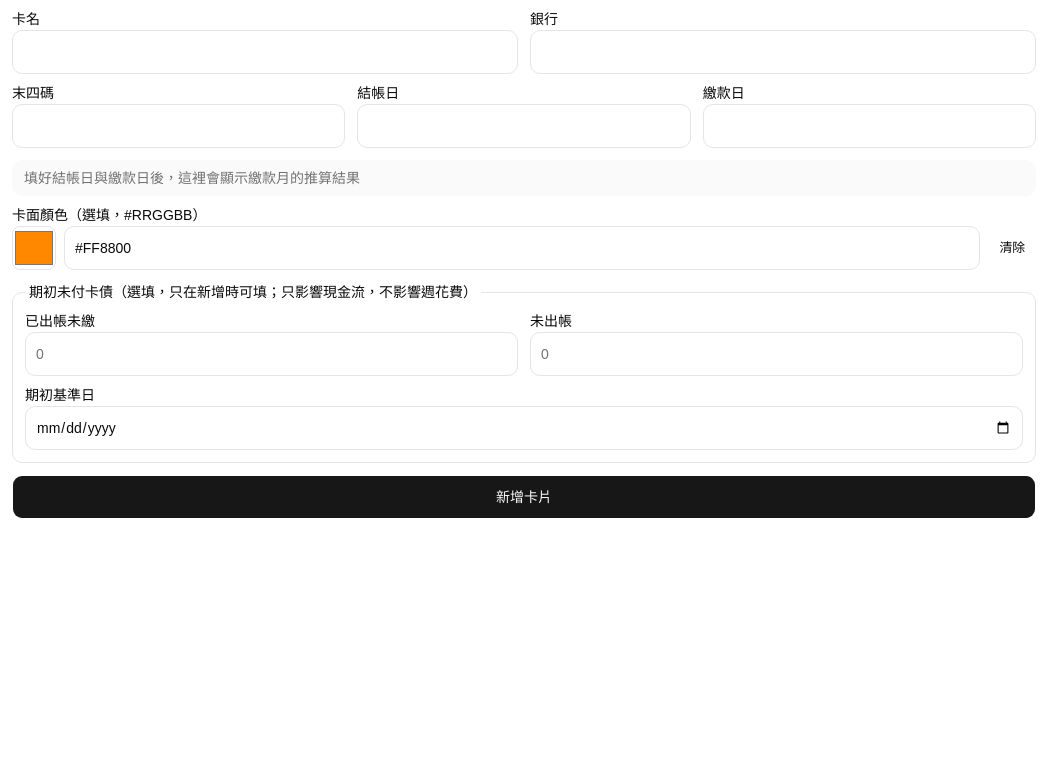
Test: CardForm 檢核與錯誤 › 前端檢核用 SRS 文案：末四碼、結帳日、繳款日
Step 1. Type "12" into the field labelled "末四碼" → (179, 126), box [12, 104, 345, 148]
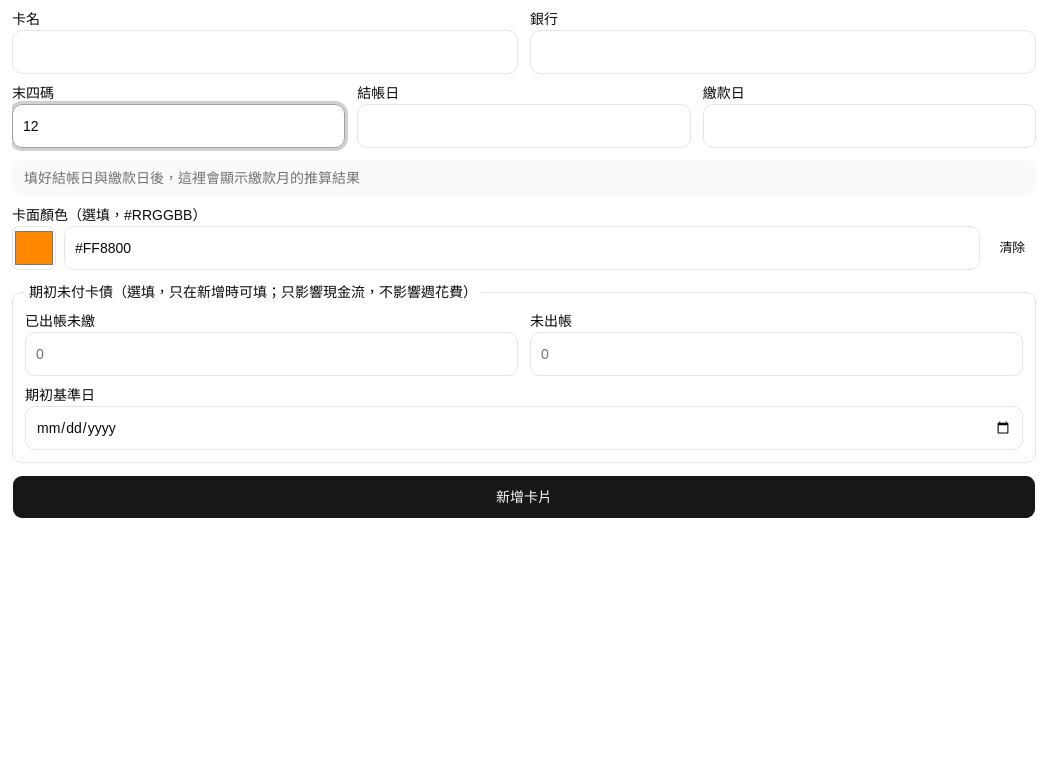
Step 2. Type "0" into the field labelled "結帳日" → (524, 126), box [357, 104, 691, 148]
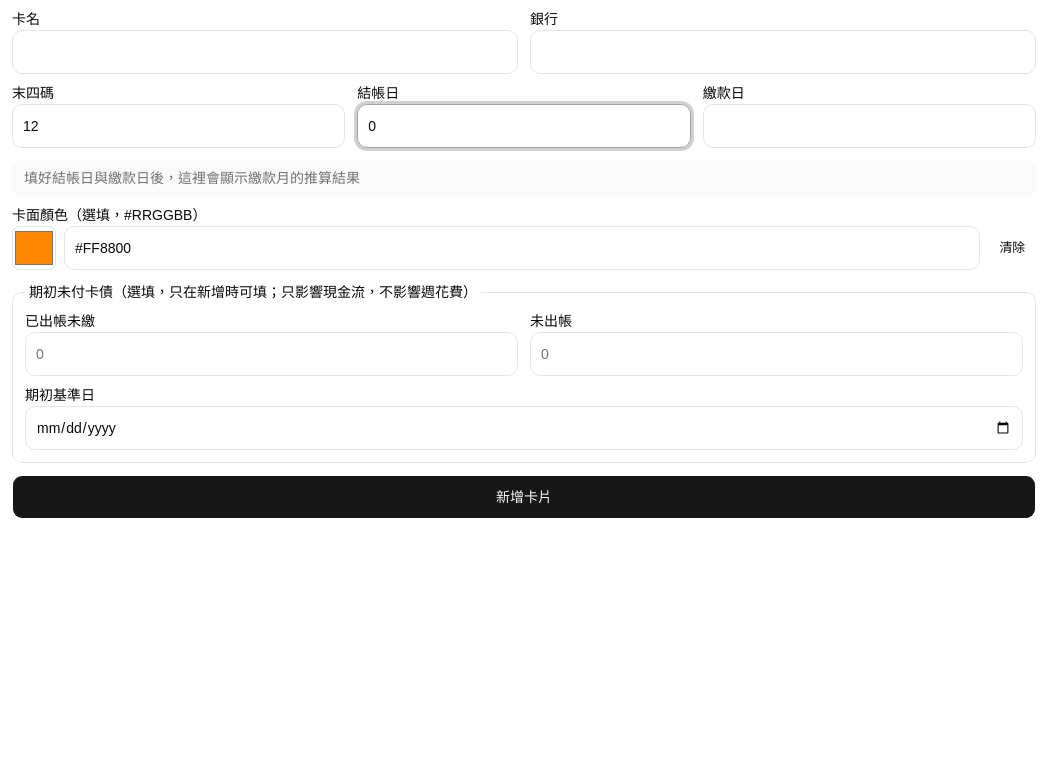
Step 3. Type "32" into the field labelled "繳款日" → (869, 126), box [703, 104, 1036, 148]
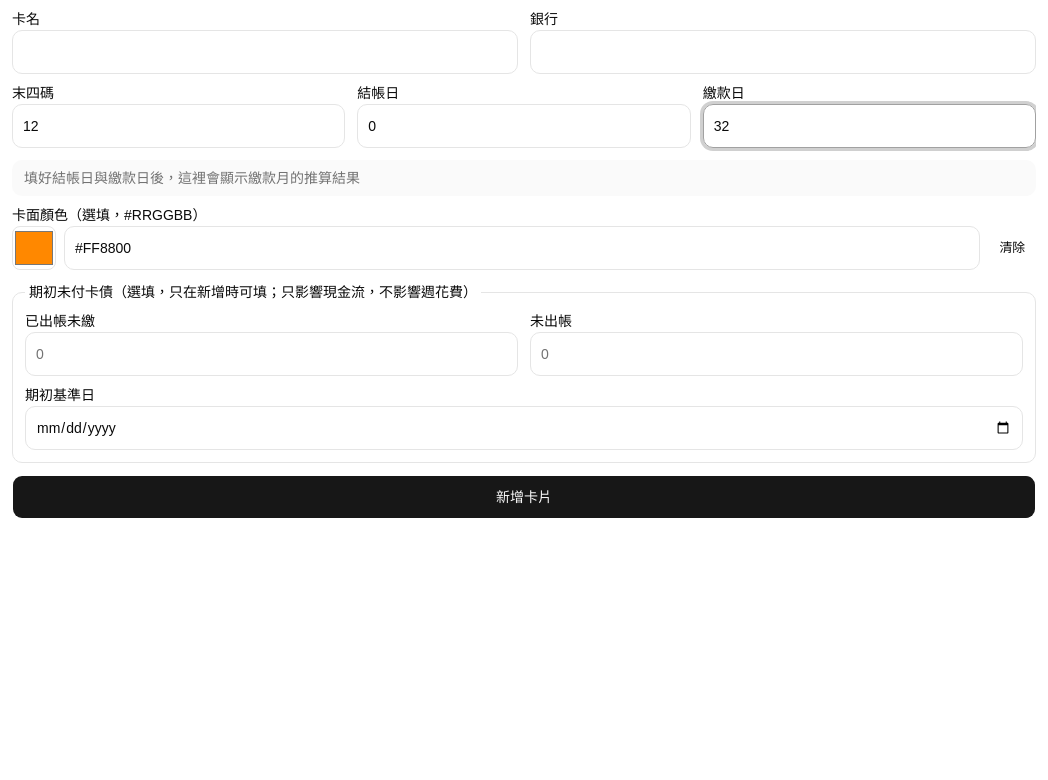
Step 4. Click the button with test id "submit" → (524, 497), box [12, 475, 1036, 519]
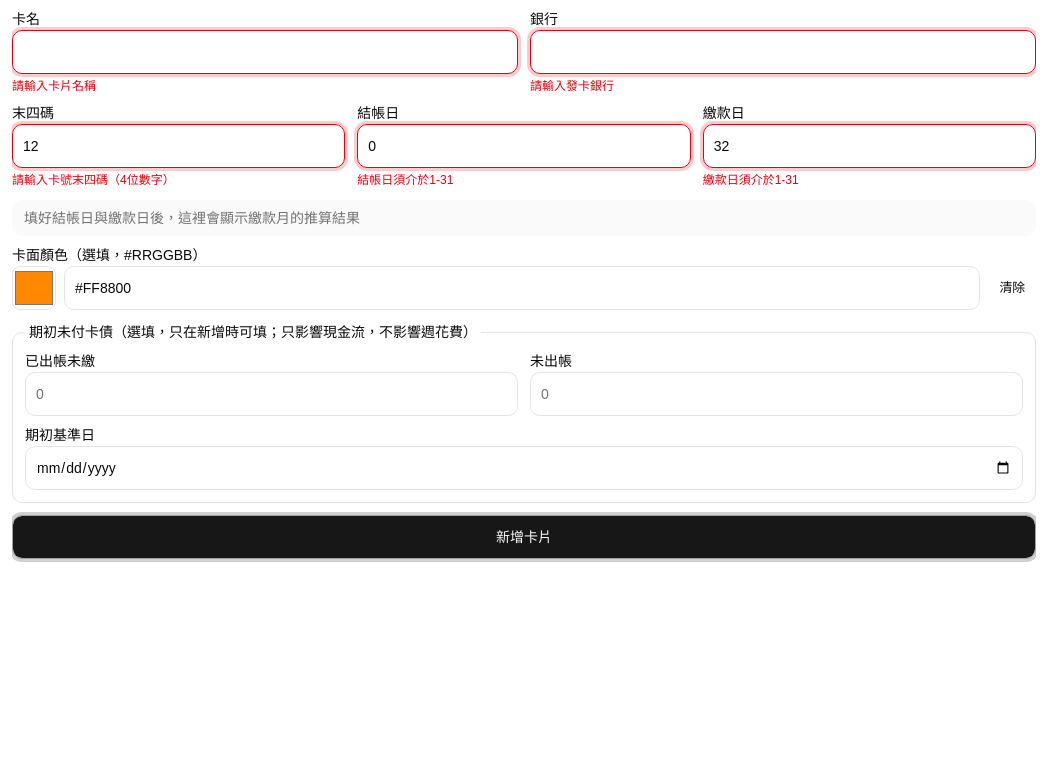
Expected: the text "請輸入卡片名稱" is shown, [12, 79, 96, 93]
Expected: the text "請輸入發卡銀行" is shown, [530, 79, 614, 93]
Expected: the text "請輸入卡號末四碼（4位數字）" is shown, [12, 173, 175, 187]
